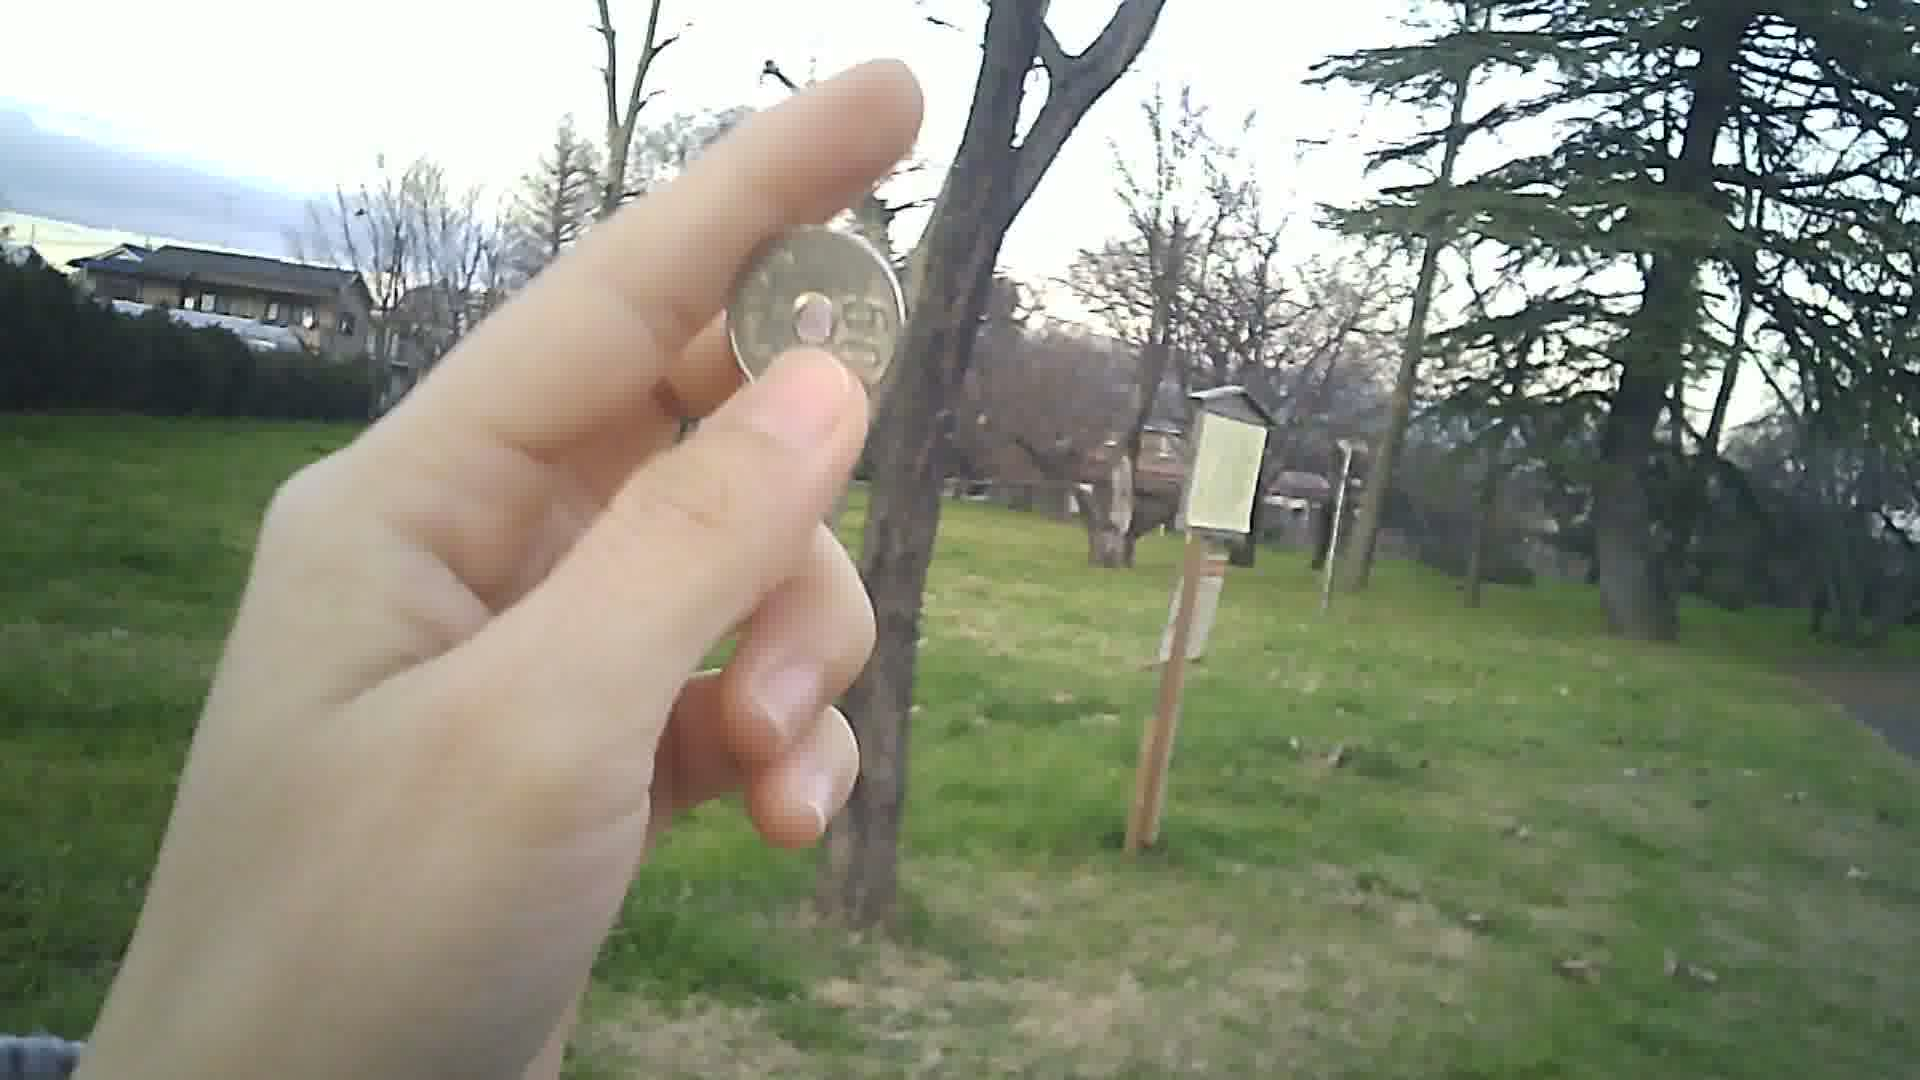50 Yen: (727, 227, 909, 397)
